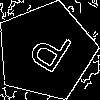P: (21, 26, 75, 83)
